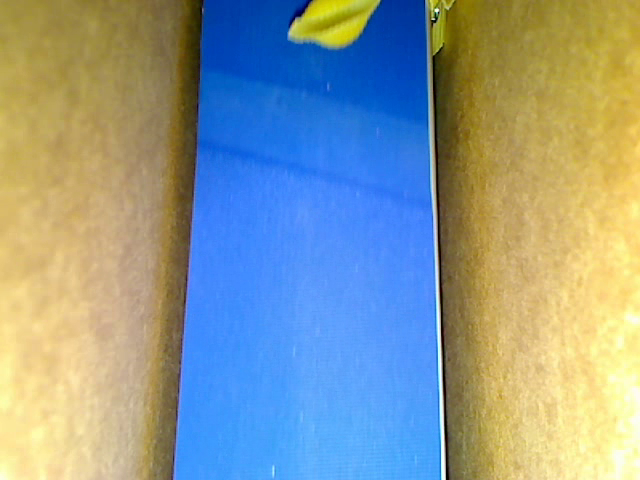penne: (429, 1, 447, 56), (441, 1, 459, 15)
shell: (287, 1, 383, 53)
